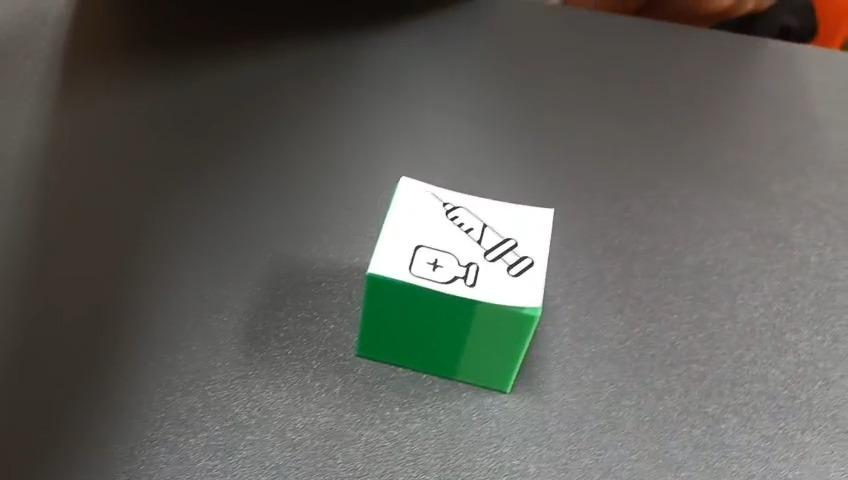antiseptic cream: (354, 174, 555, 394)
